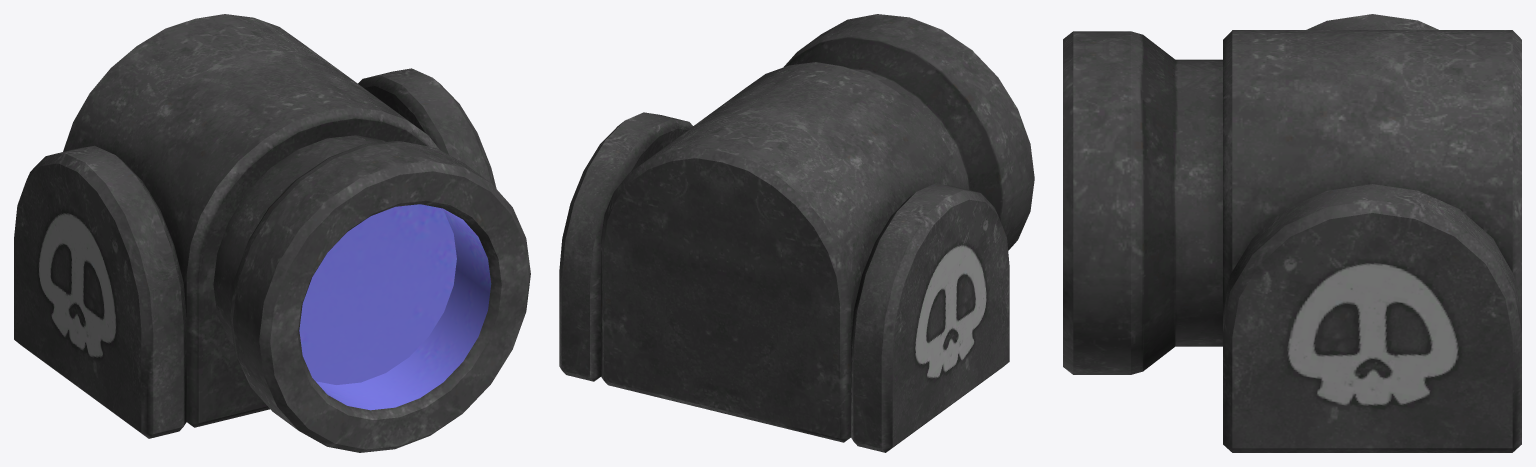
The picture shows the model from 3 angles, left to right: view 1: azimuth 30°, elevation 25°; view 2: azimuth 150°, elevation 25°; view 3: azimuth 270°, elevation 25°; orthographic projection. The views are drawn at different scales.
Visible parts, largest first — view 1: node_KillerLauncher__BodyMT_mesh_mesh0, node_KillerLauncher__HoleMT_mesh_mesh0; view 2: node_KillerLauncher__BodyMT_mesh_mesh0; view 3: node_KillerLauncher__BodyMT_mesh_mesh0.
Part boxes in pixels (<box>): node_KillerLauncher__BodyMT_mesh_mesh0: <box>14,14,530,452</box>; node_KillerLauncher__HoleMT_mesh_mesh0: <box>299,204,491,410</box>; node_KillerLauncher__BodyMT_mesh_mesh0: <box>559,14,1034,452</box>; node_KillerLauncher__BodyMT_mesh_mesh0: <box>1063,14,1521,452</box>.
Bounding box in the file's own units: 20000 × 15018 × 19961.
2 materials, 2 textured.
